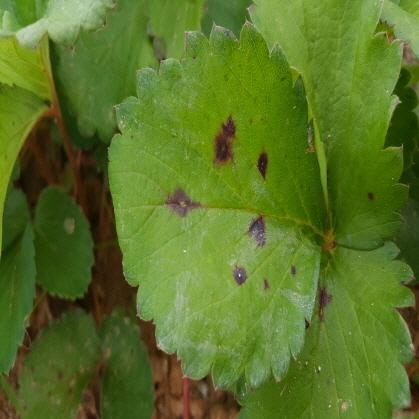Leaf Spot: (105, 18, 329, 390), (245, 0, 410, 251), (231, 240, 416, 418), (16, 306, 103, 418)
